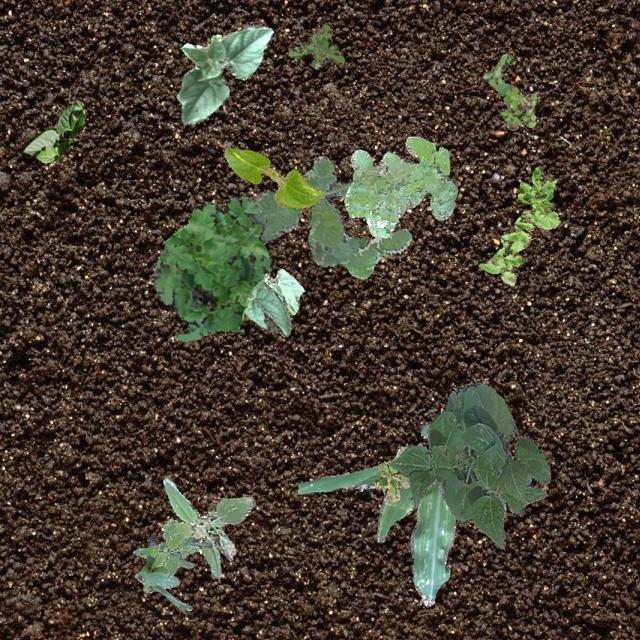crop: (296, 424, 454, 606), (390, 381, 550, 548), (175, 23, 272, 124), (224, 146, 322, 208), (134, 534, 212, 610), (22, 100, 84, 162), (242, 280, 290, 336), (262, 268, 304, 314)
weed: (254, 154, 411, 278), (152, 196, 272, 340), (342, 136, 457, 237), (478, 166, 558, 284), (160, 476, 254, 576), (482, 52, 536, 130), (138, 518, 198, 576), (288, 22, 344, 68), (373, 462, 409, 501), (132, 548, 192, 568)
